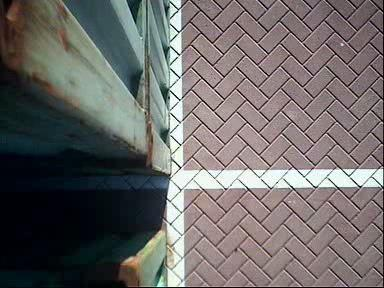groundmarker_2: (38, 174, 156, 240)
